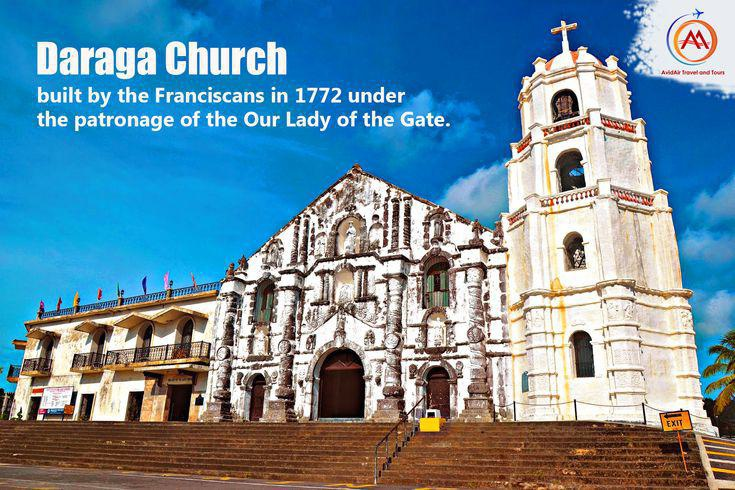daraga_church_daraga_albay: (213, 13, 714, 430)
